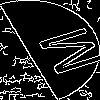M: (25, 25, 100, 81)
